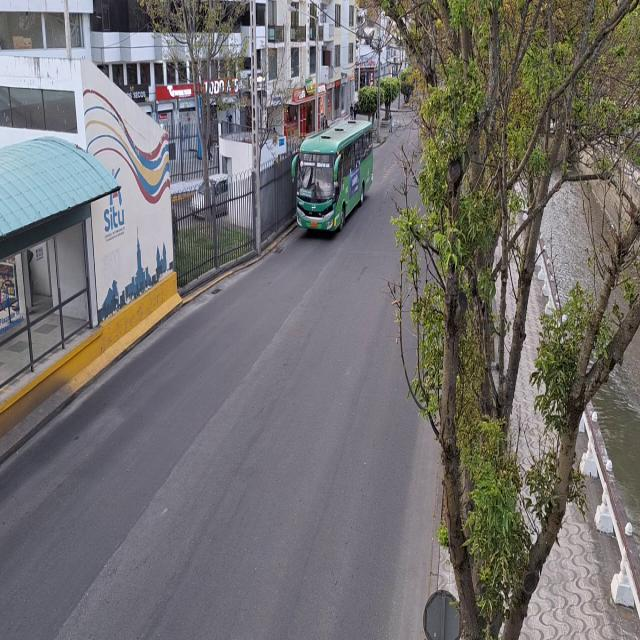BUS: (297, 120, 374, 237)
